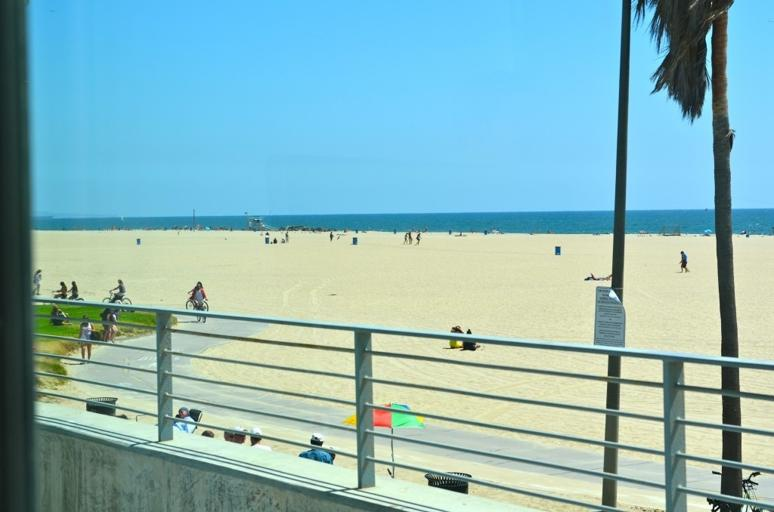non-vehicle: (707, 467, 764, 511), (101, 288, 132, 311), (184, 295, 209, 312), (190, 299, 206, 323)
